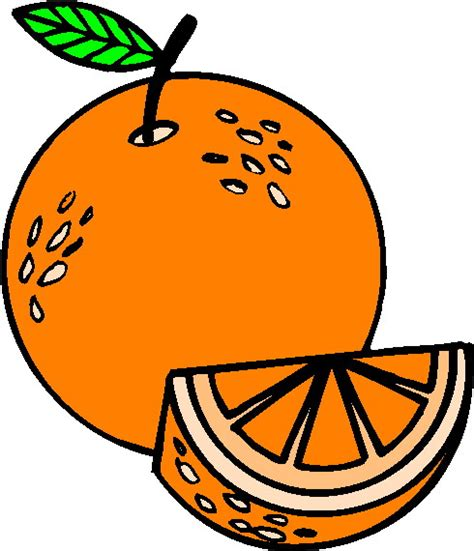orange: (1, 67, 394, 476)
